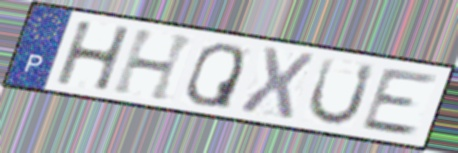E: (357, 67, 442, 139)
H: (109, 27, 200, 105), (54, 20, 134, 94)
Q: (183, 41, 248, 111)
U: (304, 55, 379, 127)
X: (235, 43, 318, 121)
